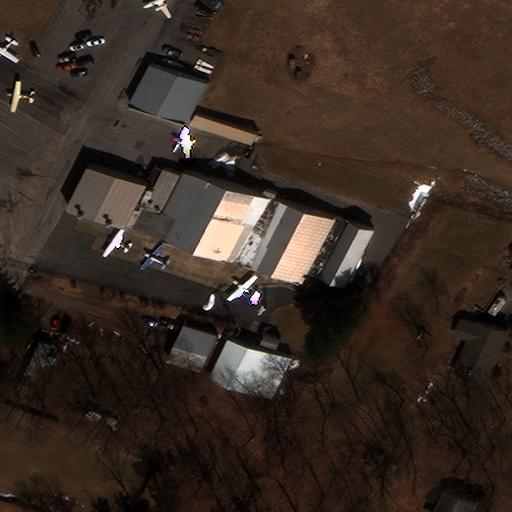Small Civil Transport: (225, 274, 259, 303), (6, 80, 33, 113), (100, 227, 129, 256), (138, 241, 168, 268), (142, 0, 173, 19), (171, 127, 193, 152), (0, 38, 15, 63)
